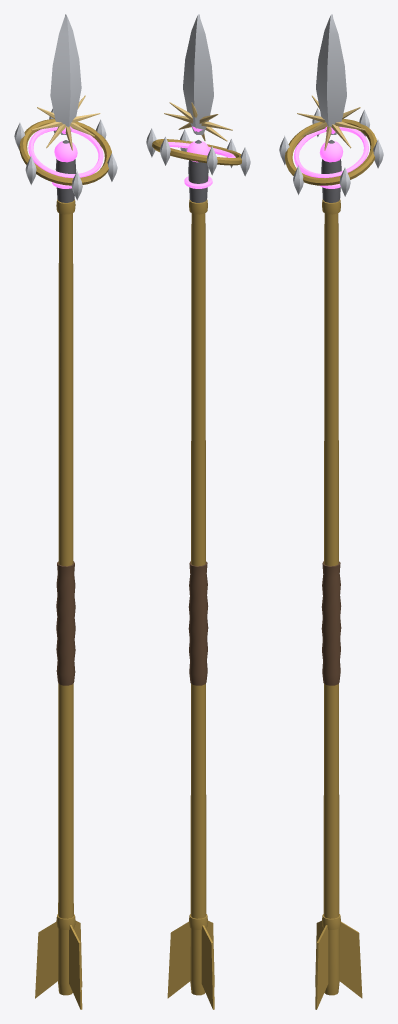
File: esc_w_knight_javelin_9.glb
The picture shows the model from 3 angles, left to right: view 1: azimuth 30°, elevation 25°; view 2: azimuth 150°, elevation 25°; view 3: azimuth 330°, elevation 25°; orthographic projection.
Visible parts, largest first — view 1: esc_w_knight_javelin_9; view 2: esc_w_knight_javelin_9; view 3: esc_w_knight_javelin_9.
Boxes of the visible parts, x1,y1,x2,y2 form: esc_w_knight_javelin_9: (14, 14, 117, 1009); esc_w_knight_javelin_9: (146, 14, 250, 1009); esc_w_knight_javelin_9: (279, 14, 383, 1009).
Size of the model in its own units: 0.1602 by 1.65 by 0.1516.
